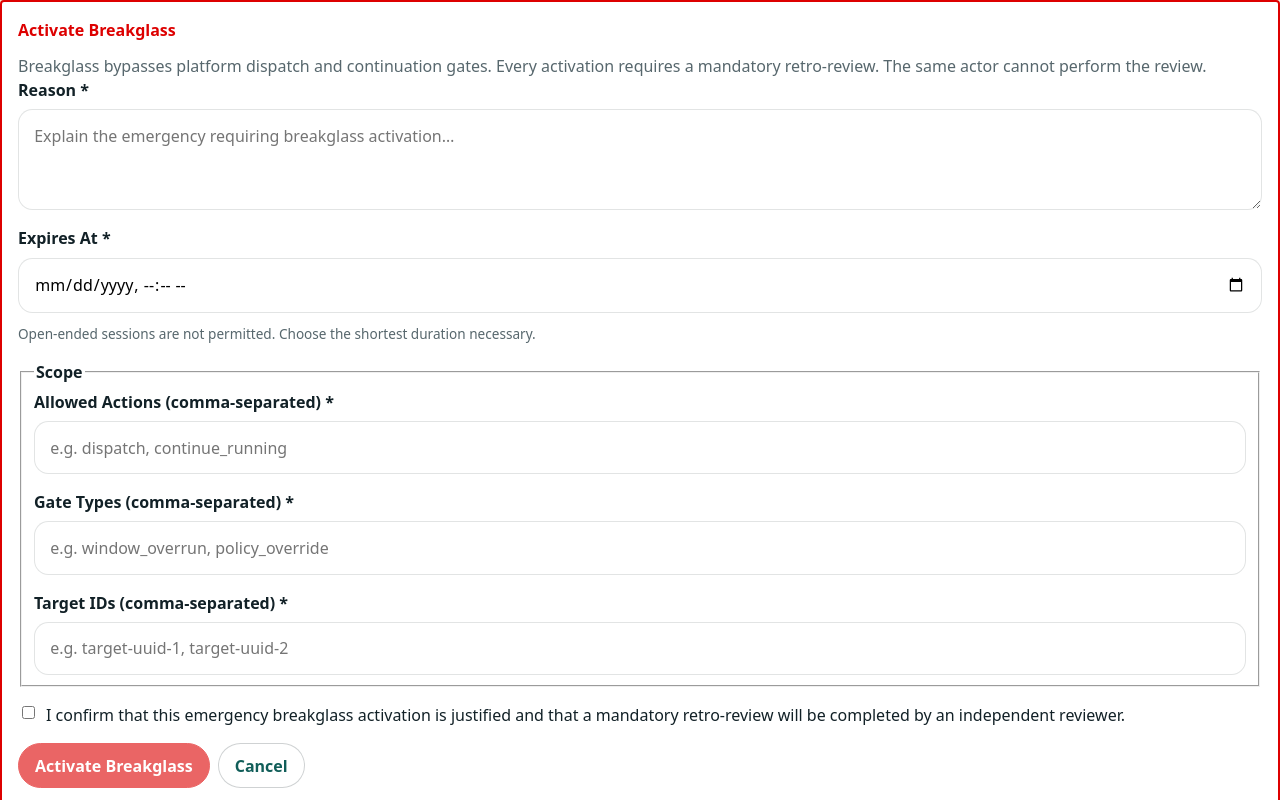
Test: BreakglassActivationModal › rejects submission with empty reason
In the field labelled "Expires At *": [640, 285] box top-left (18, 258), bottom-right (1262, 313), type "2099-01-01T12:00"
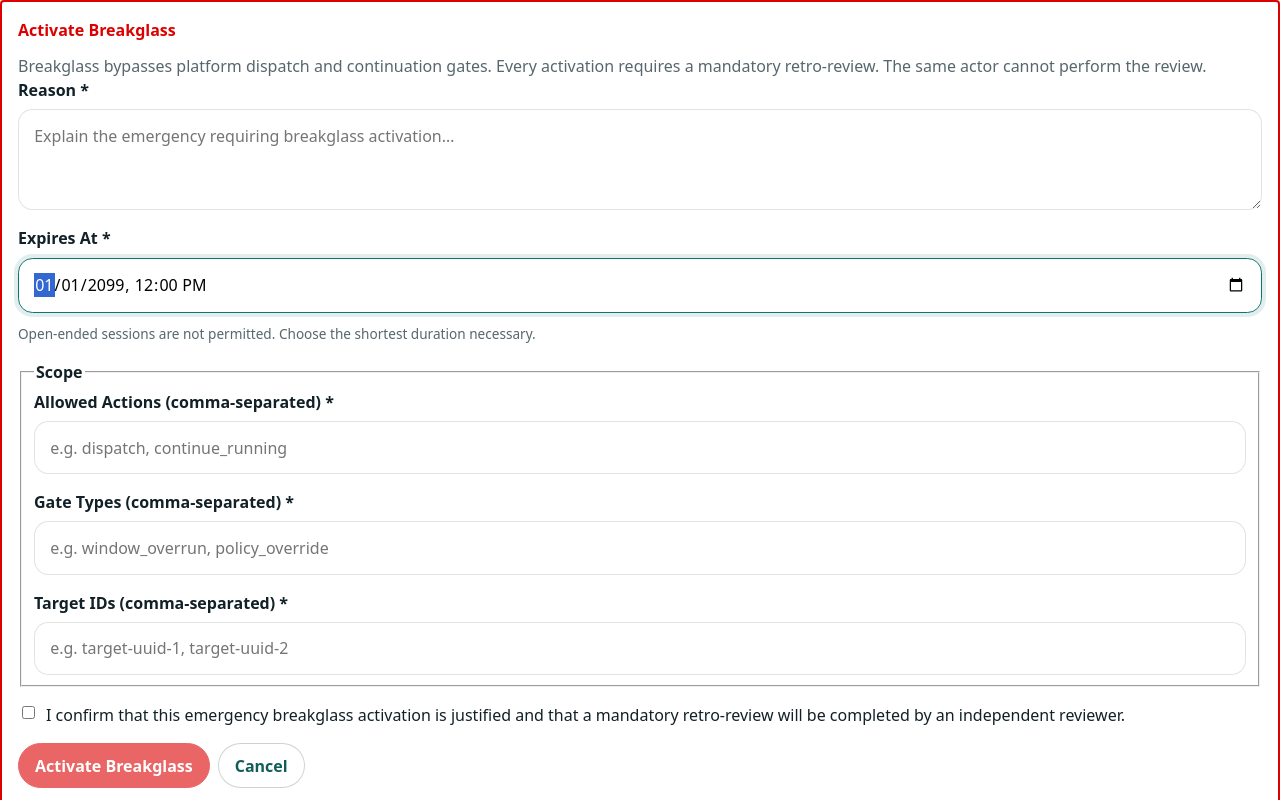
In the field labelled "Allowed Actions (comma-separated) *": [640, 448] box top-left (34, 421), bottom-right (1246, 474), type "dispatch"
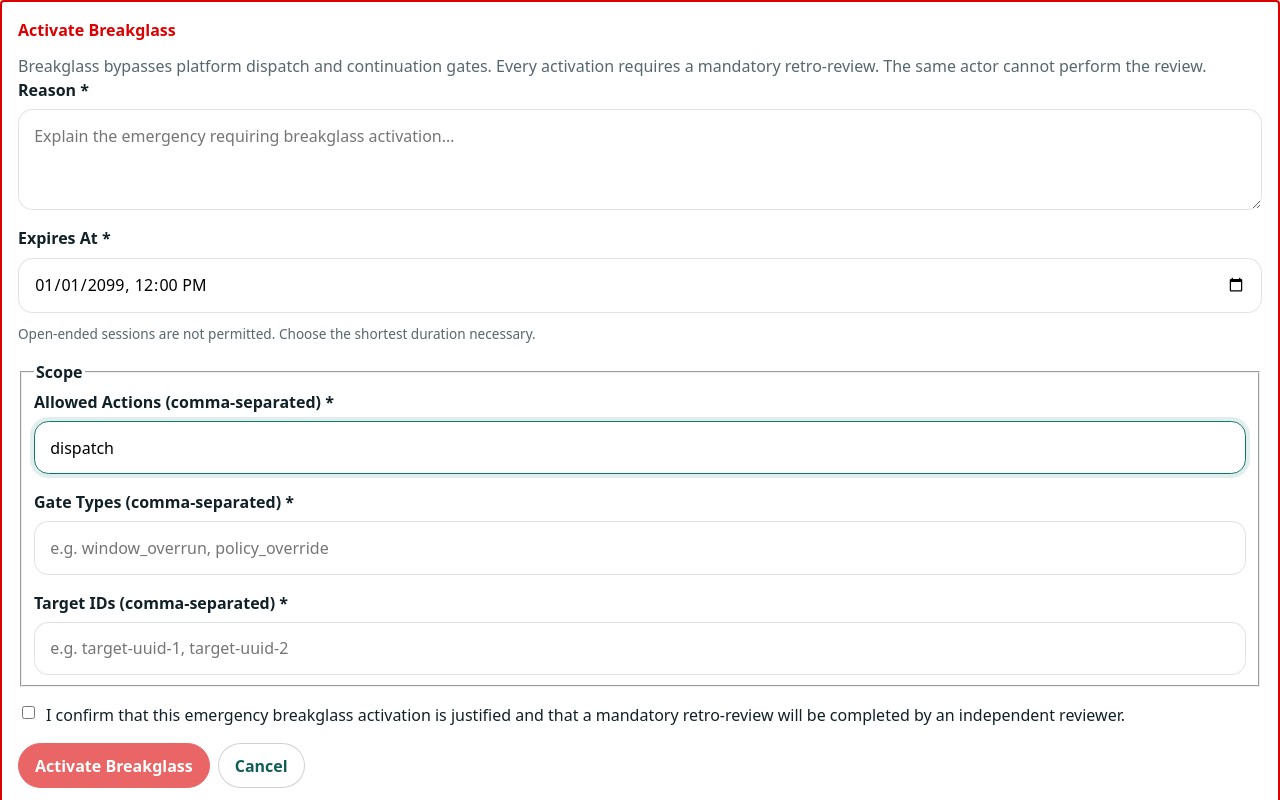
In the field labelled "Gate Types (comma-separated) *": [640, 548] box top-left (34, 522), bottom-right (1246, 575), type "window_overrun"
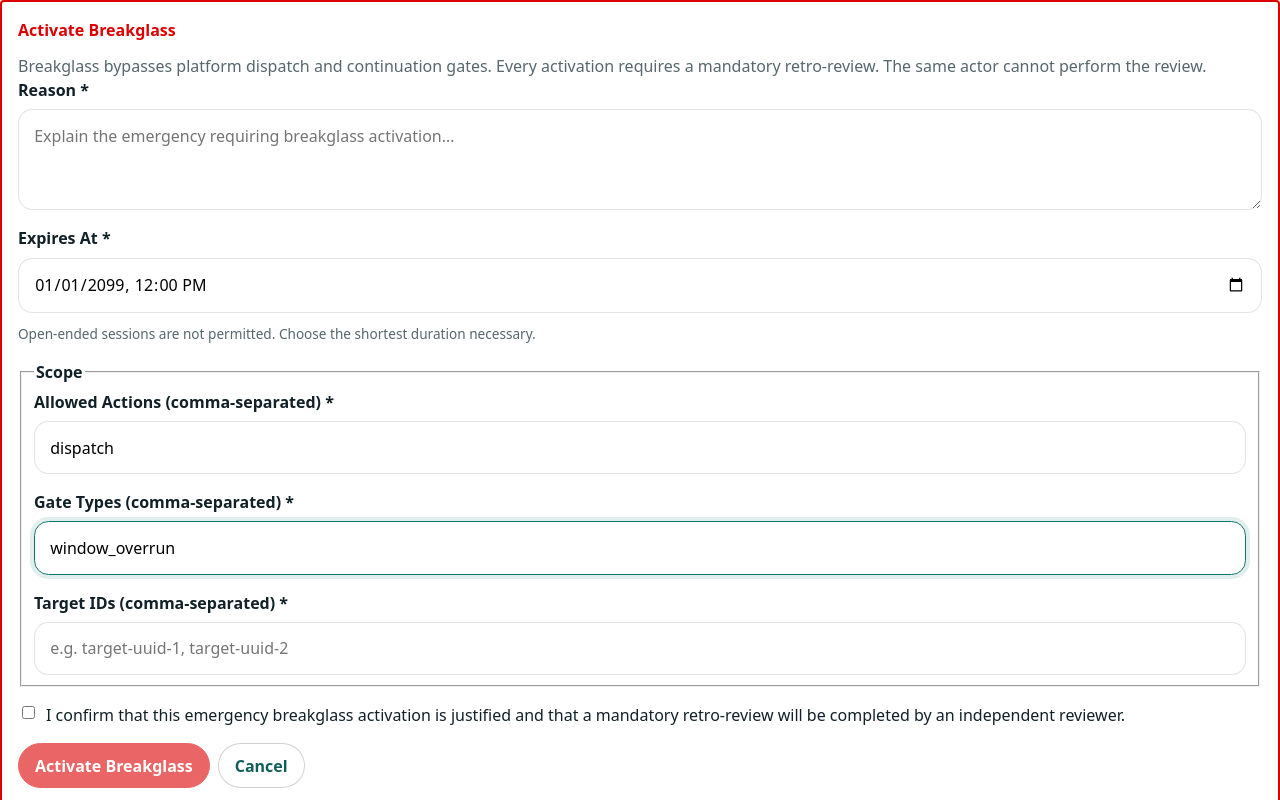
In the field labelled "Target IDs (comma-separated) *": [640, 648] box top-left (34, 622), bottom-right (1246, 675), type "target-1"
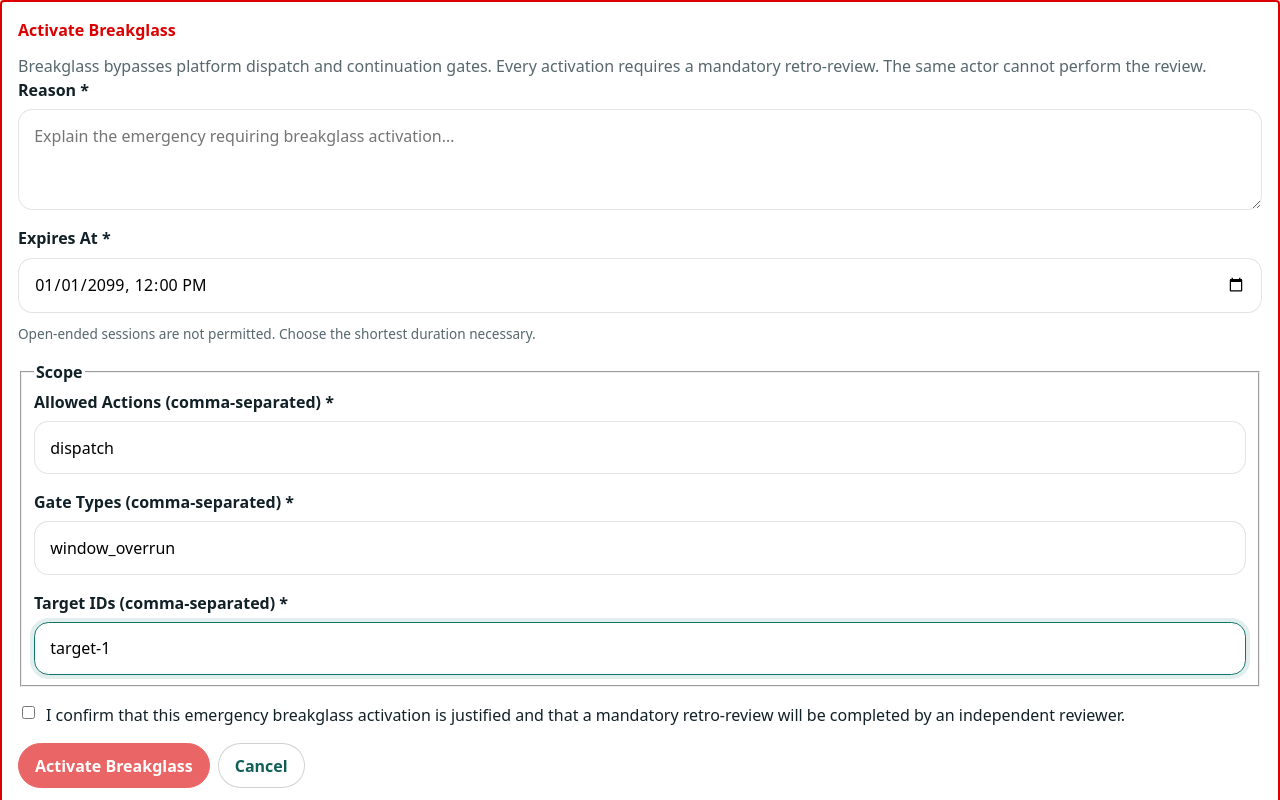
Click the checkbox named "confirm breakglass activation": [28, 712] box top-left (22, 706), bottom-right (35, 719)
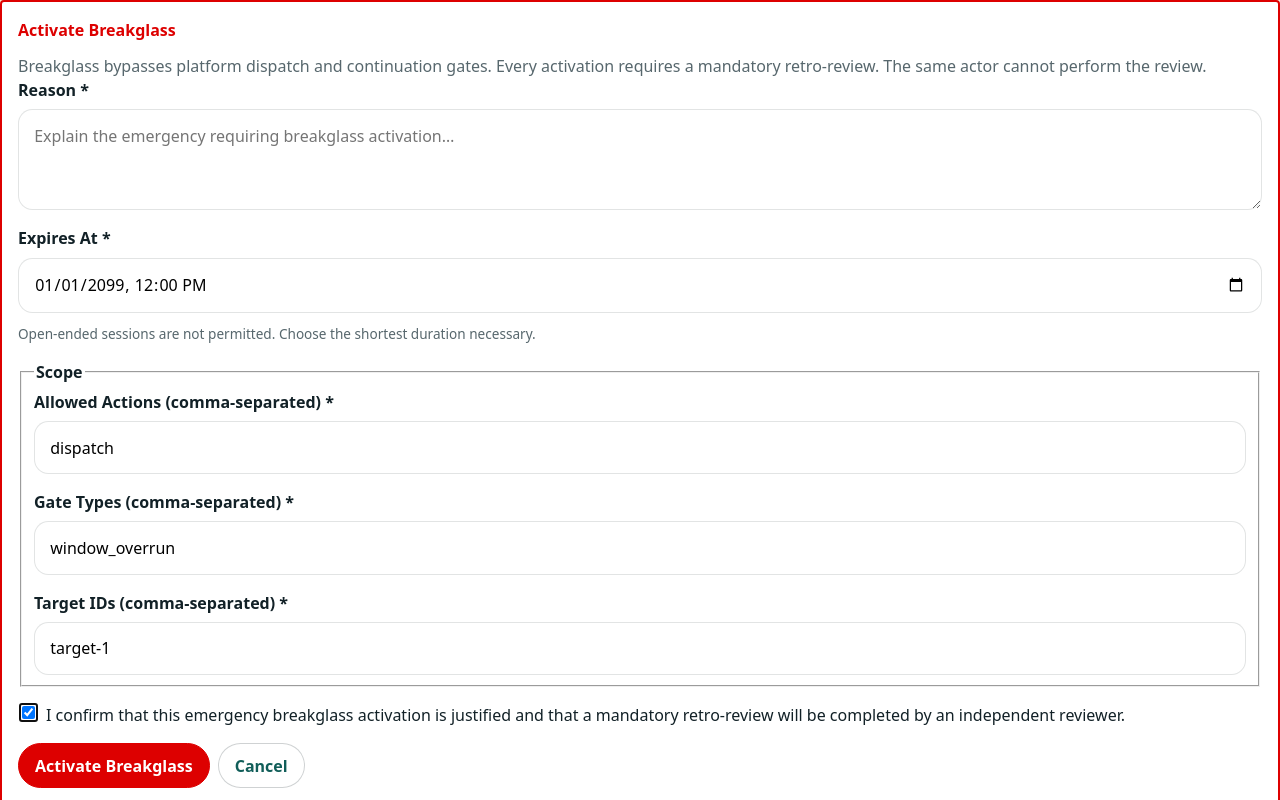
Click the button "Activate Breakglass": [114, 766] box top-left (18, 743), bottom-right (210, 788)
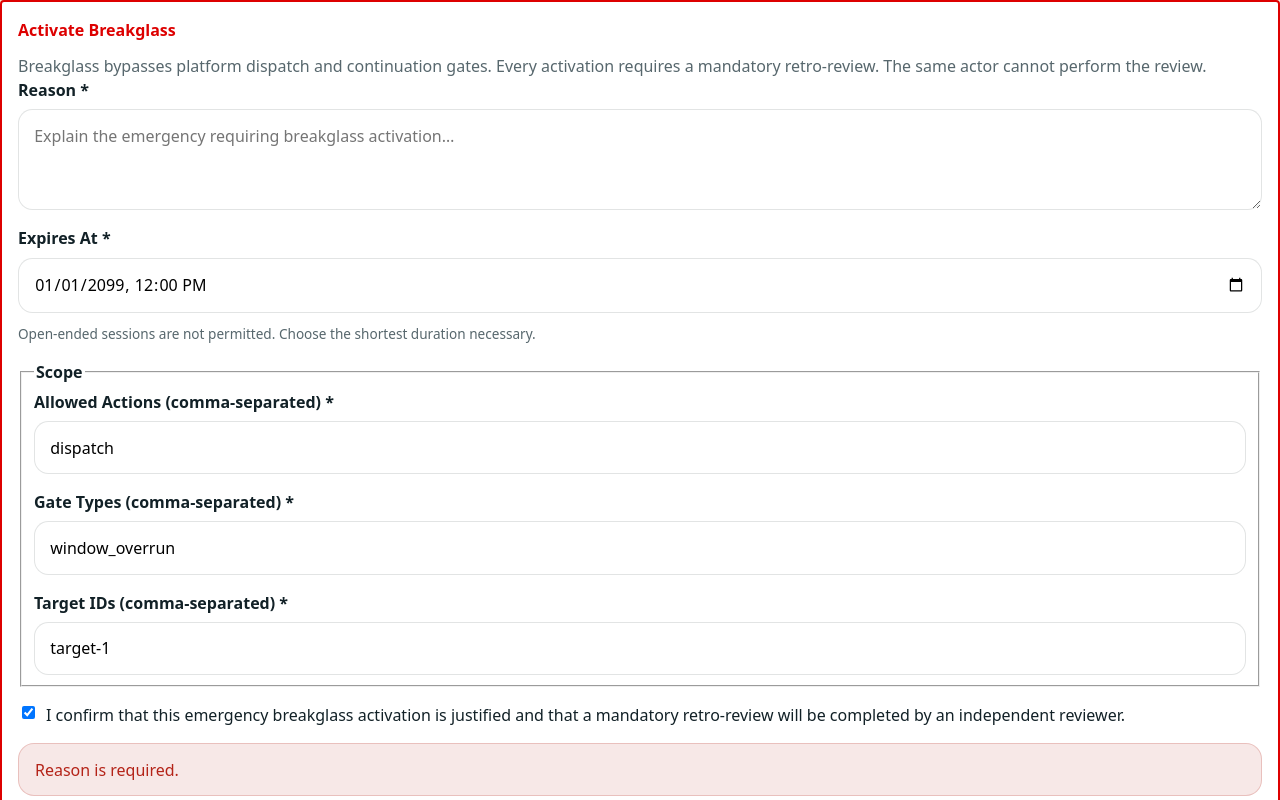
Now the text "Reason is required." is shown, box top-left (18, 743), bottom-right (1262, 796)
